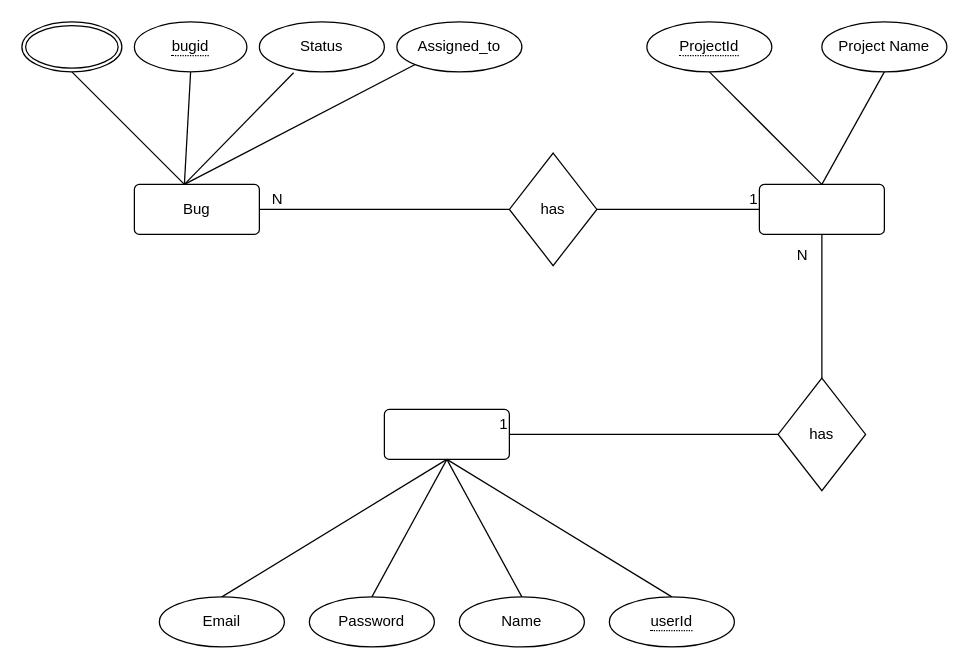
The diagram is 969 pixels wide and 669 high, and some of its shapes have lost their labels. Here are the shapes that lost their labels. From the top down, the centre of each, then its label:
the point at 71,46: Description
the point at 821,208: Project
the point at 446,433: User
